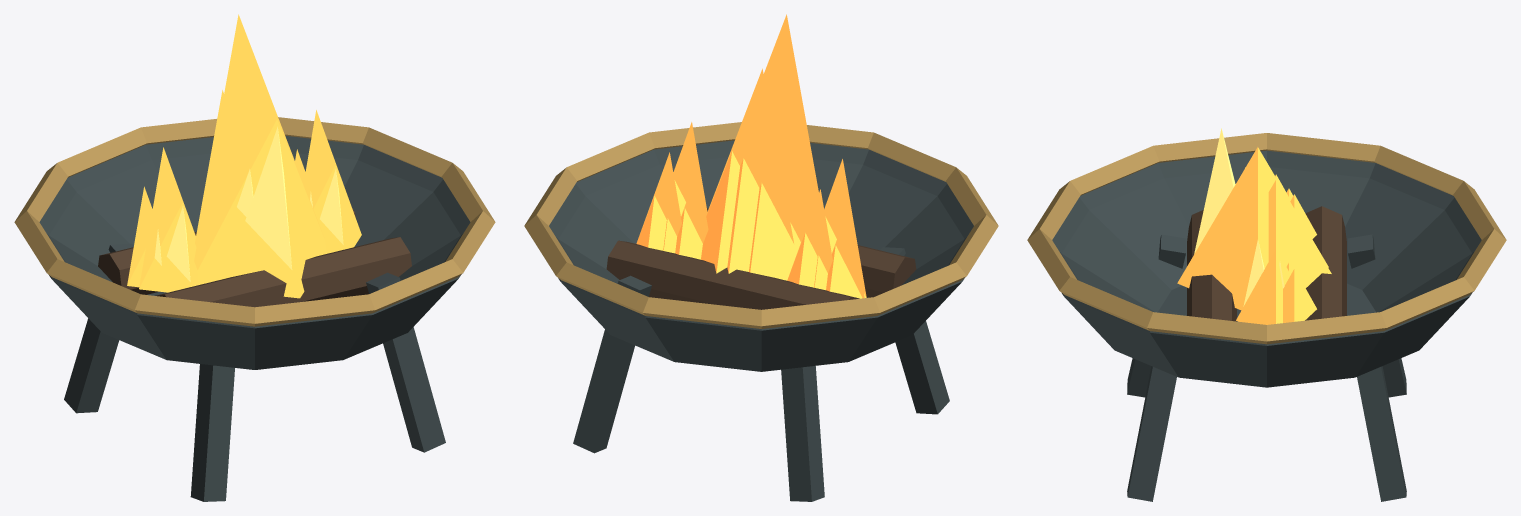
Rendered from hearth_brazier.glb.
The picture shows the model from 3 angles, left to right: view 1: azimuth 30°, elevation 25°; view 2: azimuth 150°, elevation 25°; view 3: azimuth 270°, elevation 25°; orthographic projection.
Visible parts, largest first — view 1: geometry, fire; view 2: geometry, fire; view 3: geometry, fire.
Part boxes in pixels (x1,y1,x2,y2): geometry: (14,117,495,501); fire: (127,14,361,298); geometry: (524,122,998,501); fire: (636,14,866,298); geometry: (1027,133,1506,501); fire: (1177,128,1331,324).
Size of the model in its own units: 1.31 by 1.27 by 1.31.
